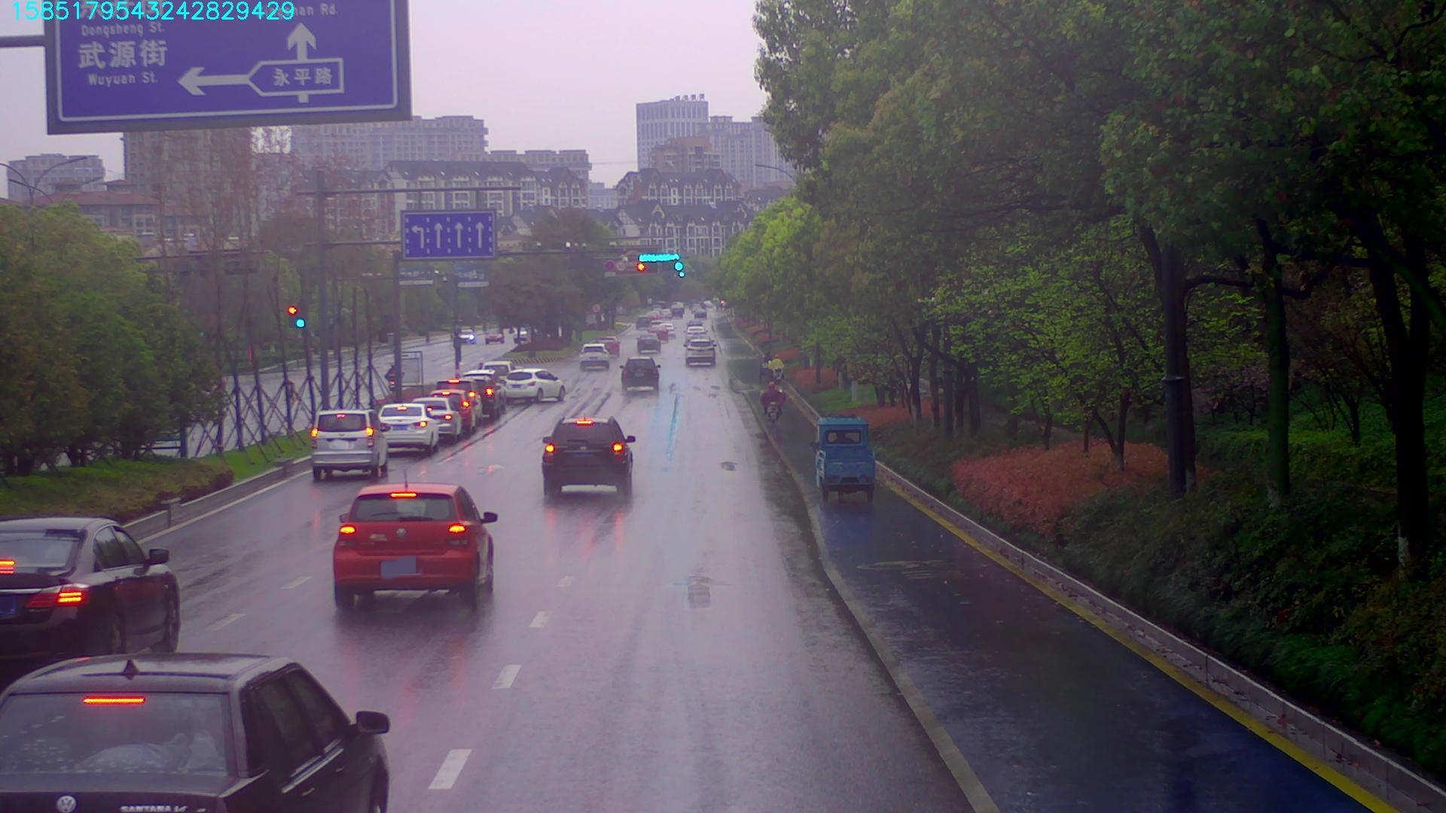green: (658, 261, 685, 273)
red: (634, 262, 653, 271)
wait_on: (639, 250, 680, 262)
